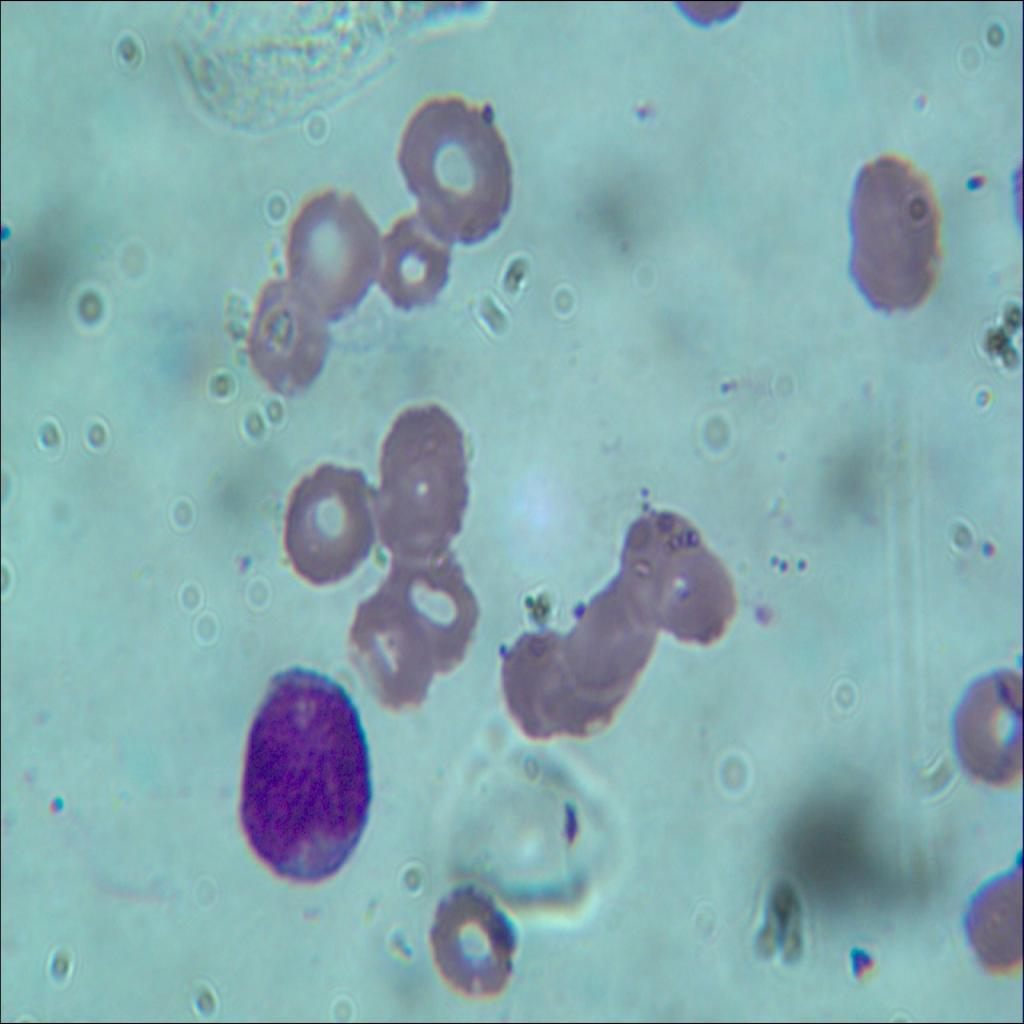Eritrosit: (396, 97, 511, 244), (624, 504, 738, 648), (846, 152, 943, 312), (375, 401, 473, 553), (279, 186, 381, 325), (272, 459, 374, 594), (503, 624, 611, 746), (382, 550, 478, 672), (426, 885, 518, 1004), (243, 277, 334, 396), (570, 578, 658, 695), (348, 598, 429, 712), (951, 666, 1023, 788), (958, 858, 1024, 979), (374, 209, 455, 307)
Limfoblast: (238, 664, 372, 888)
Platelet: (36, 785, 78, 826), (843, 941, 881, 984), (490, 631, 520, 669), (749, 591, 775, 632), (966, 162, 990, 202), (558, 799, 580, 842), (976, 532, 1003, 566), (711, 368, 738, 398), (478, 95, 499, 131), (631, 95, 651, 125), (234, 550, 254, 580), (570, 597, 588, 625), (766, 548, 783, 572), (793, 551, 808, 578), (636, 495, 656, 515), (634, 476, 652, 498), (778, 555, 790, 577)
